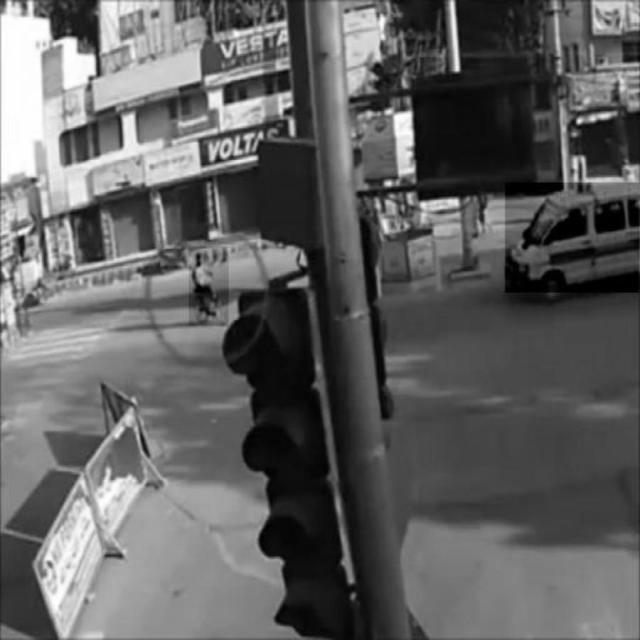vehicle: (505, 182, 639, 293), (189, 247, 229, 327)
